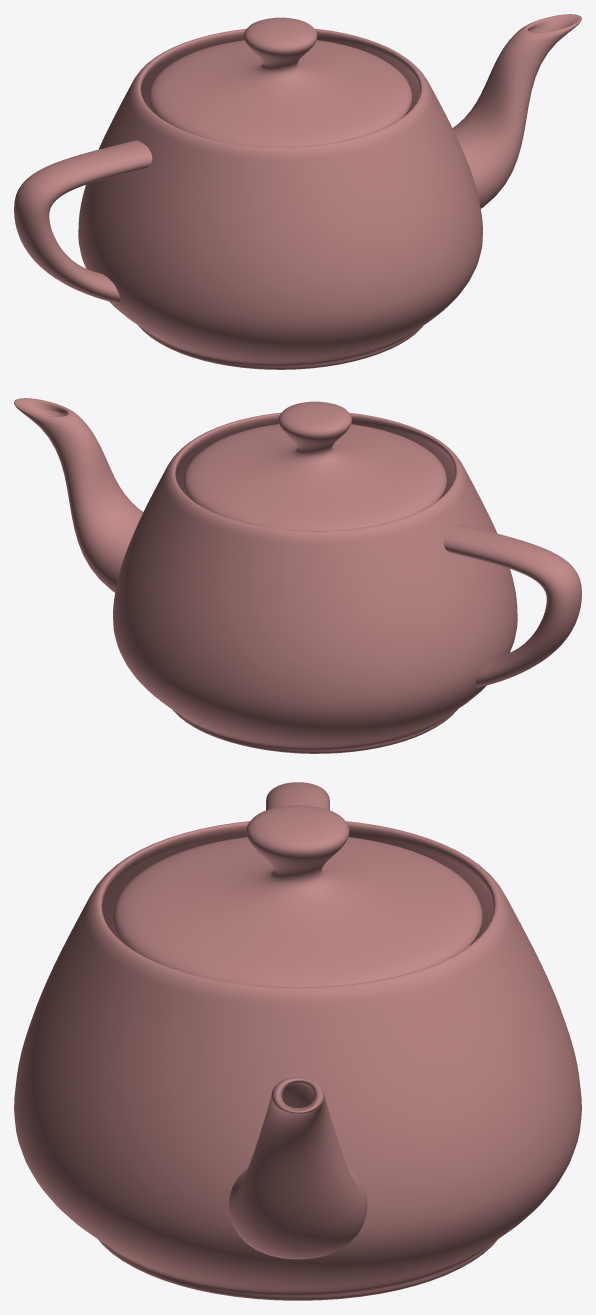
File: teapot.glb
3 renders of one model, top to bottom at view 1: azimuth 30°, elevation 25°; view 2: azimuth 150°, elevation 25°; view 3: azimuth 270°, elevation 25°, orthographic. The views are drawn at different scales.
Visible parts, largest first — view 1: Teapot001; view 2: Teapot001; view 3: Teapot001.
Part boxes in pixels (x1,y1,x2,y2): Teapot001: (14,14,581,369); Teapot001: (14,398,581,753); Teapot001: (14,782,581,1300).
Size of the model in its own units: 3.22 by 1.58 by 2.
